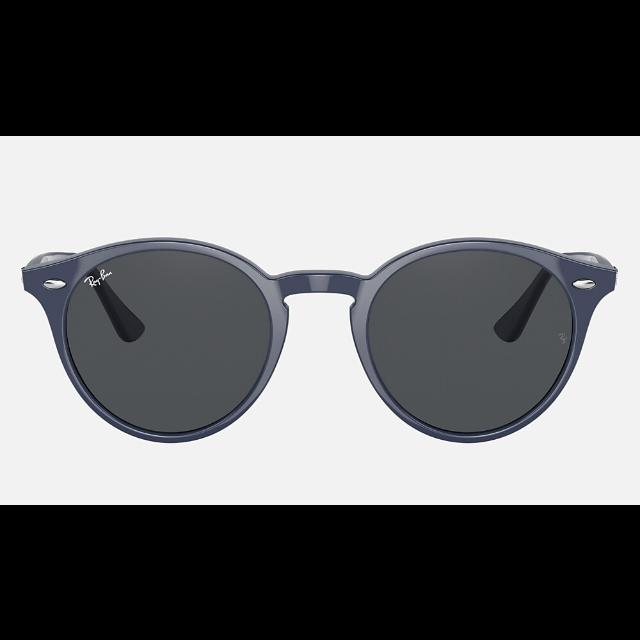Sunglasses: (22, 234, 616, 442)
